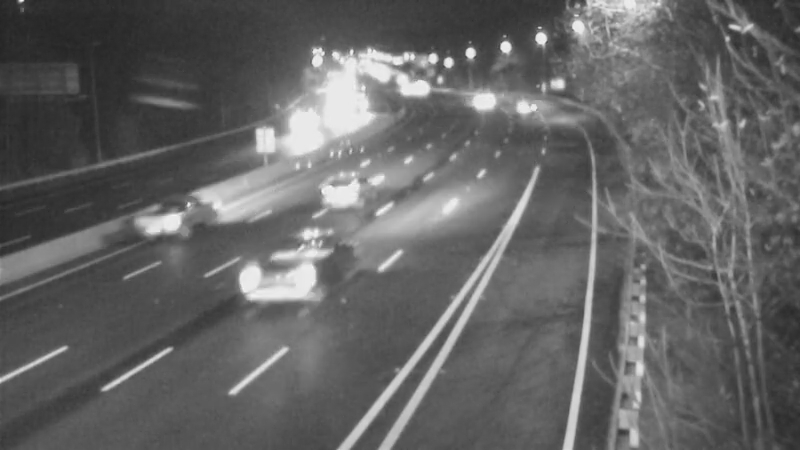vehicle: (309, 144, 389, 224), (150, 169, 230, 249), (237, 236, 317, 316), (394, 70, 444, 120), (447, 71, 497, 121), (503, 80, 553, 130), (283, 93, 333, 143)
